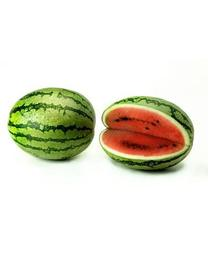watermelon: (98, 95, 195, 171), (8, 88, 95, 162)
